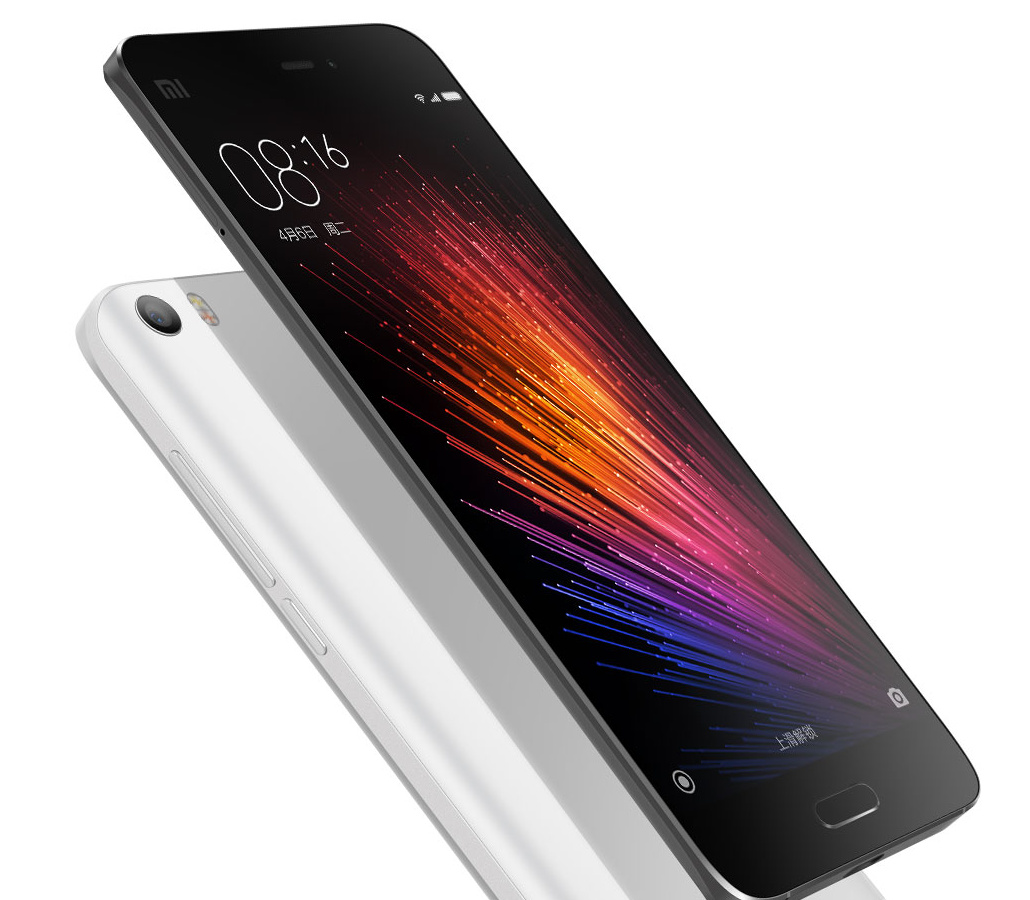smartphone: (104, 23, 982, 899), (76, 272, 709, 899)
